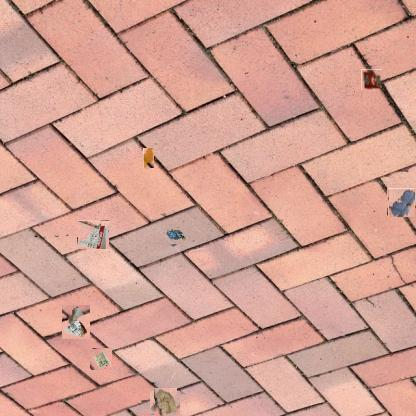dirty: (77, 220, 109, 250), (62, 305, 90, 339), (151, 389, 178, 416), (90, 348, 112, 370), (361, 69, 382, 90), (166, 226, 186, 246)
liquid: (388, 188, 416, 217), (143, 148, 154, 168)
